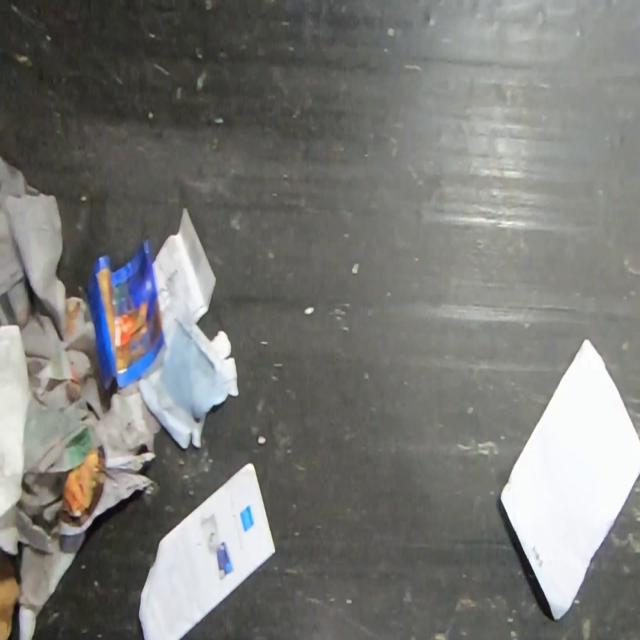cardboard: (0, 550, 22, 640)
